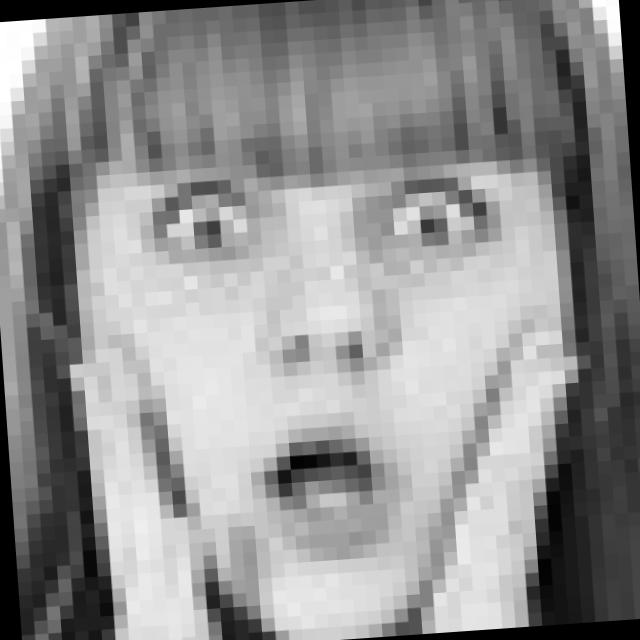surprise: (132, 132, 528, 571)
